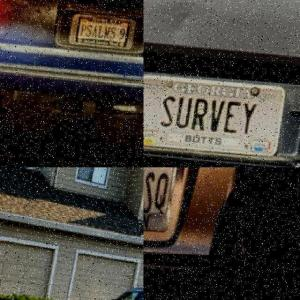Plate: (144, 75, 290, 156), (143, 167, 202, 232), (77, 16, 133, 47)
